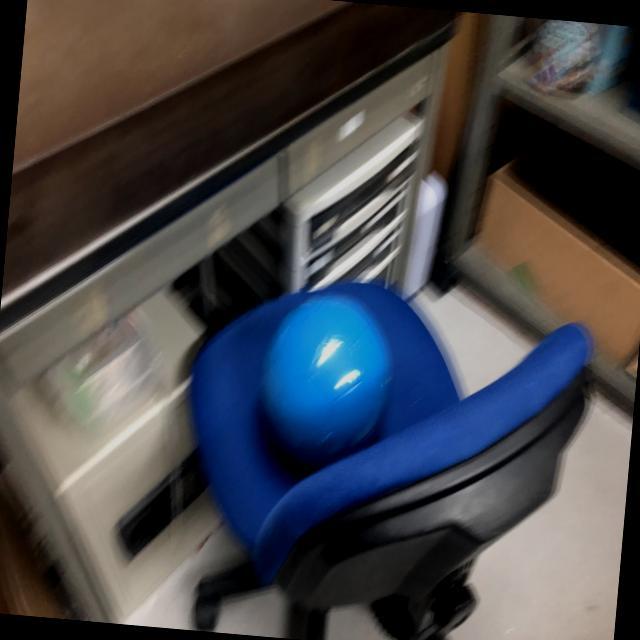blue_ball: (258, 290, 401, 466)
